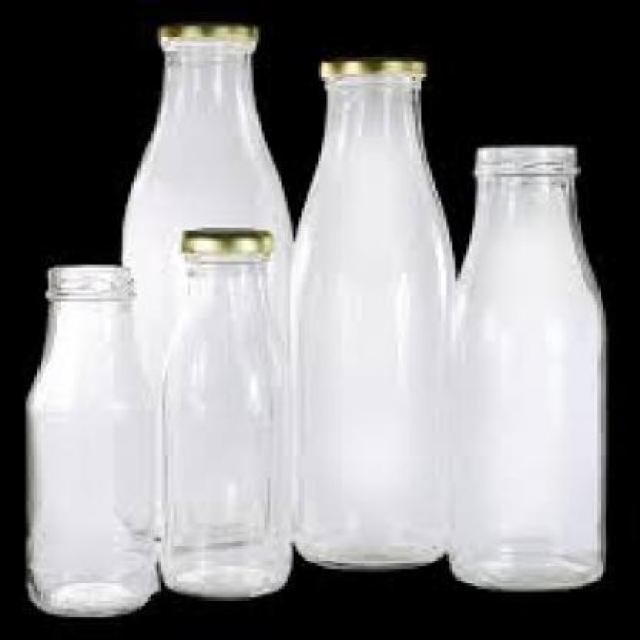kaca: (282, 74, 452, 569), (446, 162, 603, 589), (120, 40, 291, 386), (157, 254, 295, 595), (23, 294, 157, 618)
